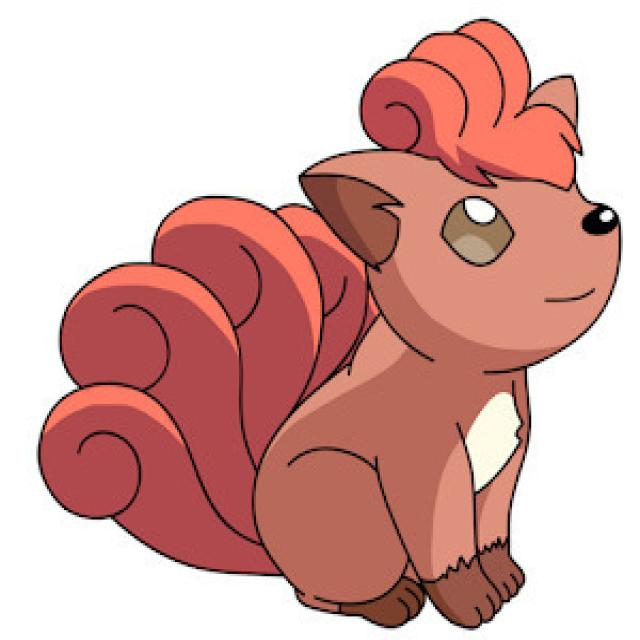Vulpix: (205, 40, 616, 616)
